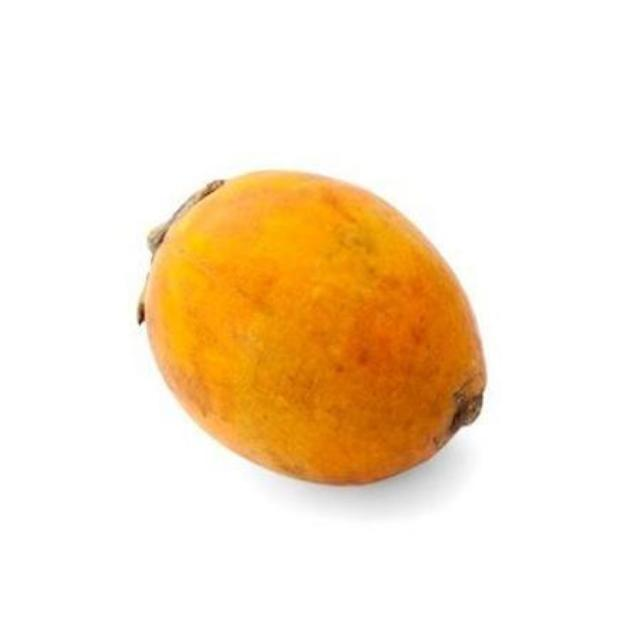good: (141, 170, 488, 488)
